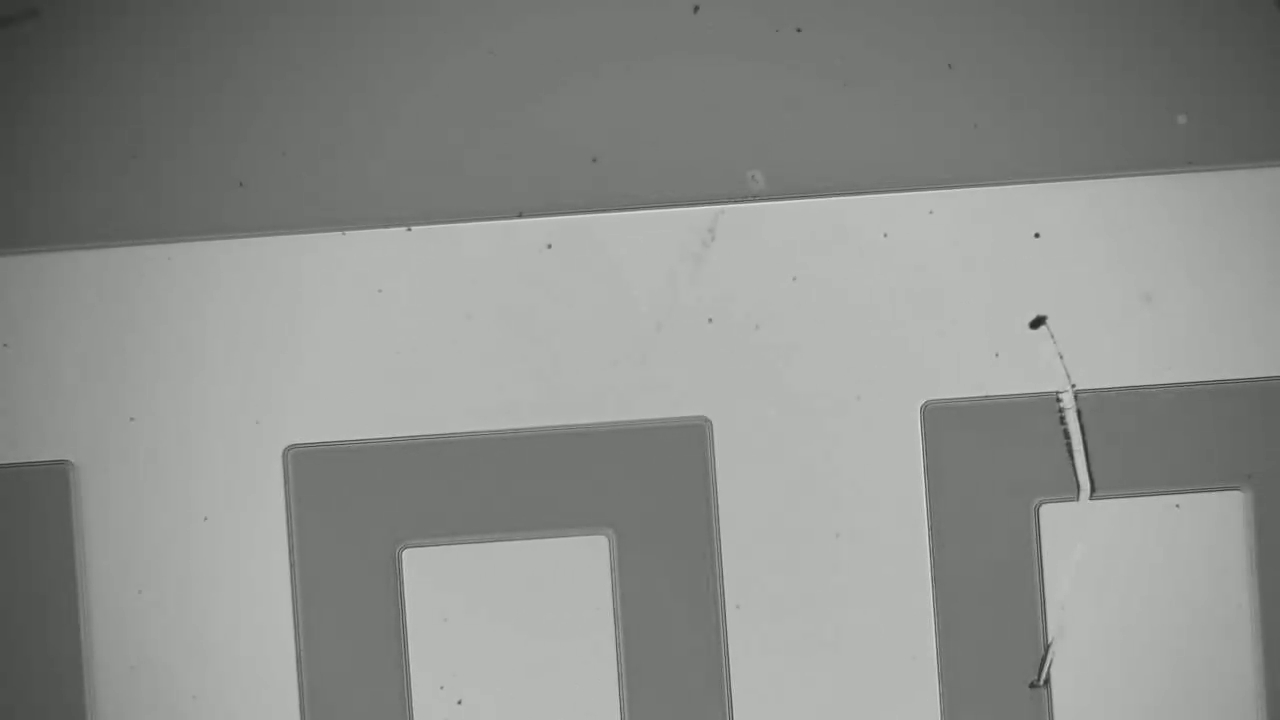Short_circuit: (1039, 362, 1131, 523)
